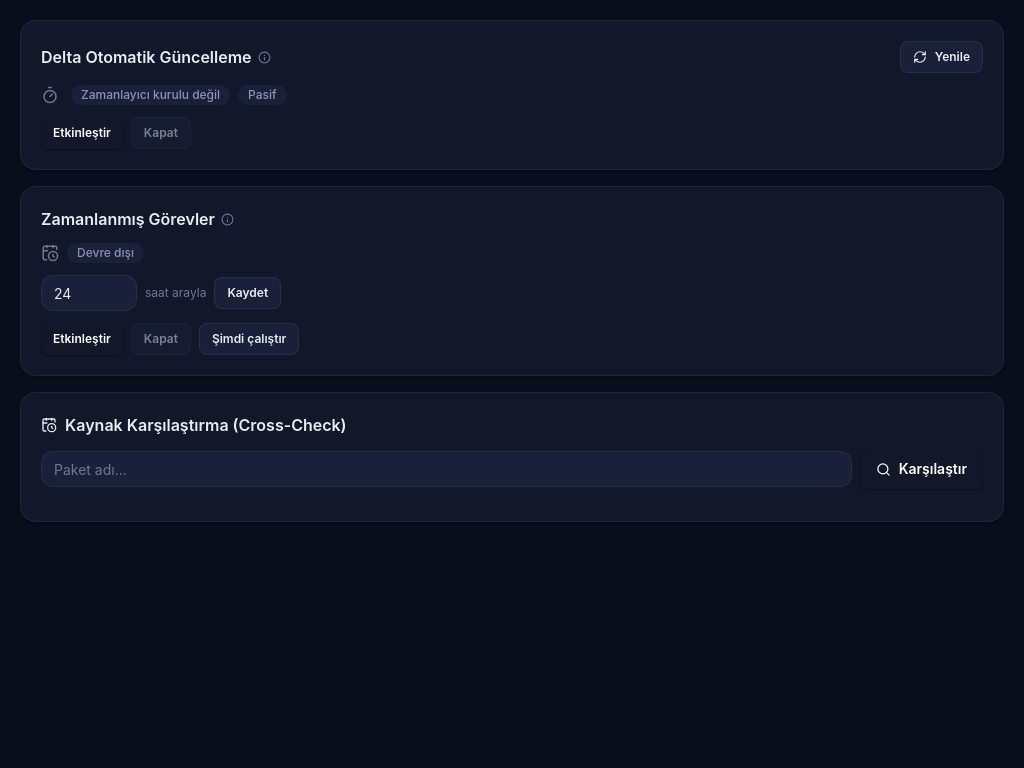
Test: Updates page › shows an error toast when delta.enable fails
The image size is (1024, 768).
Expected: the text "Zamanlayıcı kurulu değil" is shown, [71, 85, 230, 105]
Click the button "Etkinleştir" below "Zamanlayıcı kurulu değil" at [82, 133], box [41, 117, 123, 149]
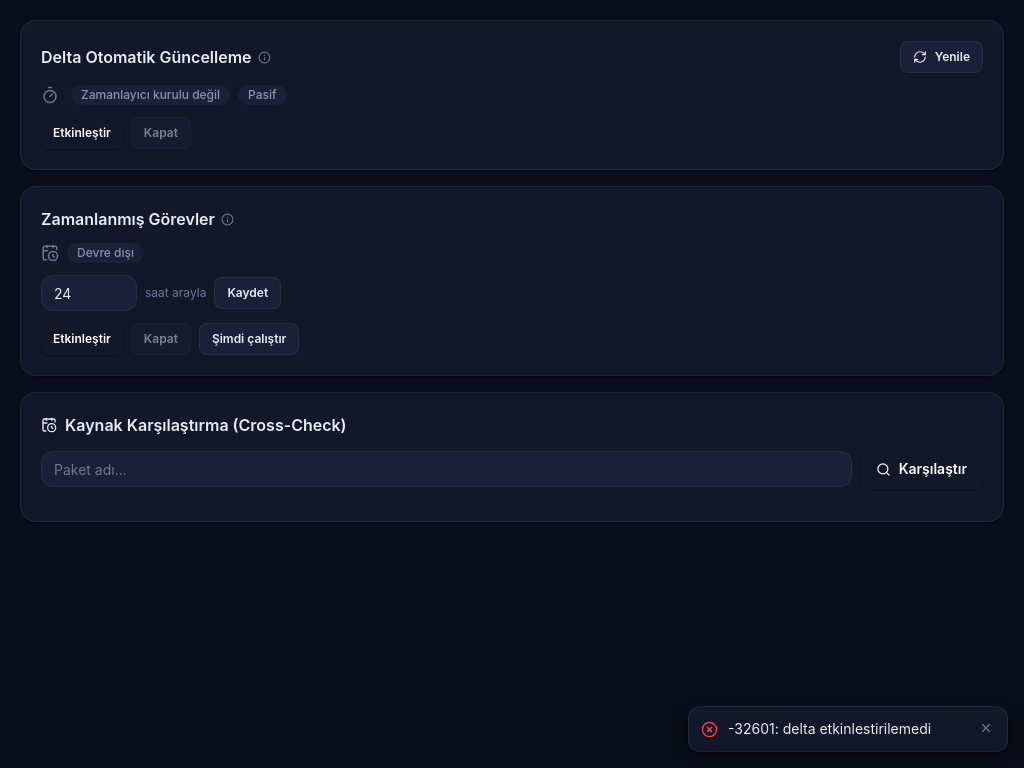
Expected: the text "-32601: delta etkinlestirilemedi" is shown, [728, 719, 967, 739]
